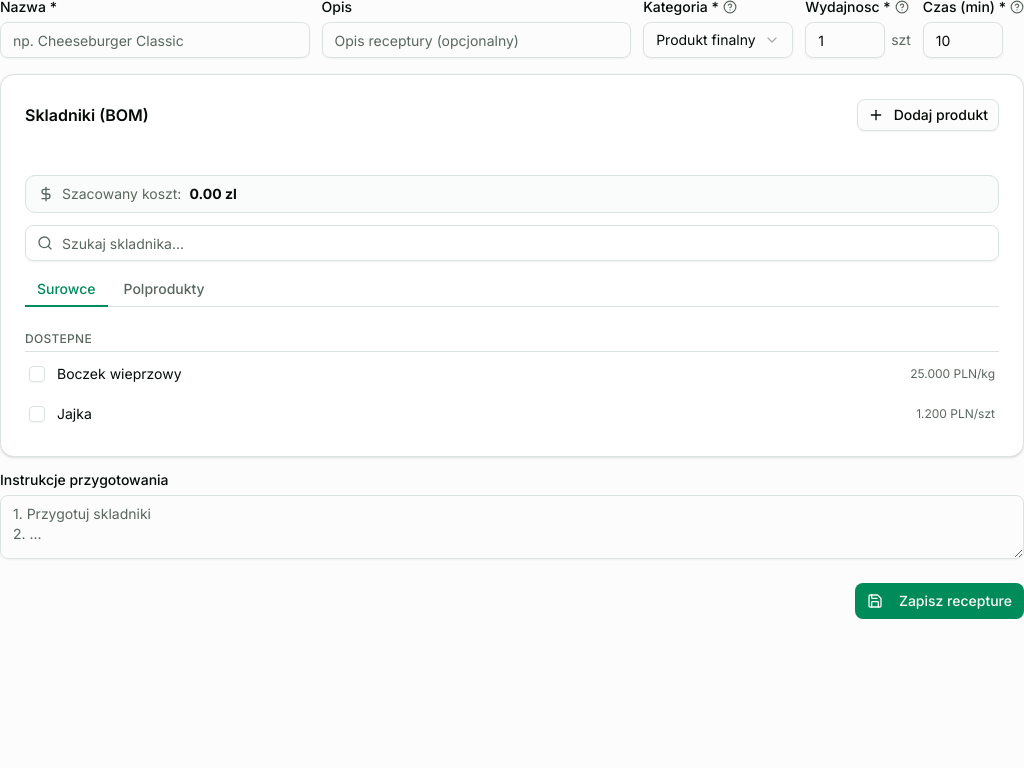
Test case: RecipeForm › opens stock item dialog from recipe ingredients section
Expected: the text "Boczek wieprzowy" is shown, [57,364,182,384]
Click the button "Dodaj produkt".
click(928, 115)  # box [857,99,999,131]
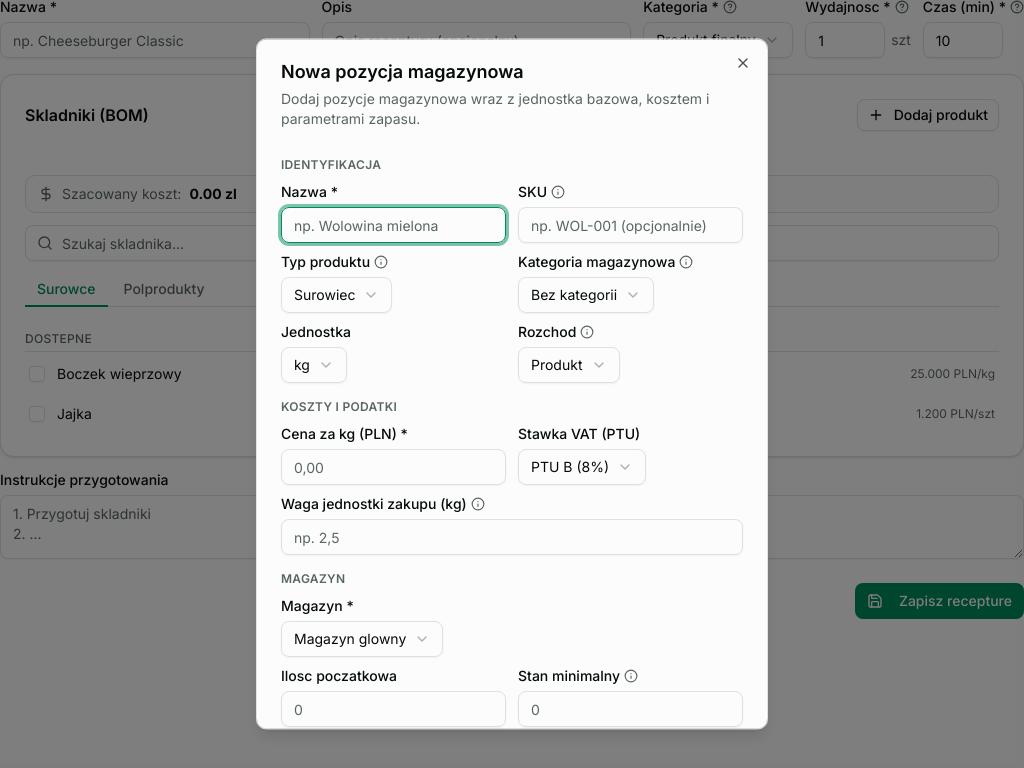
Now the heading "Nowa pozycja magazynowa" is shown, box [281,61,524,82]
